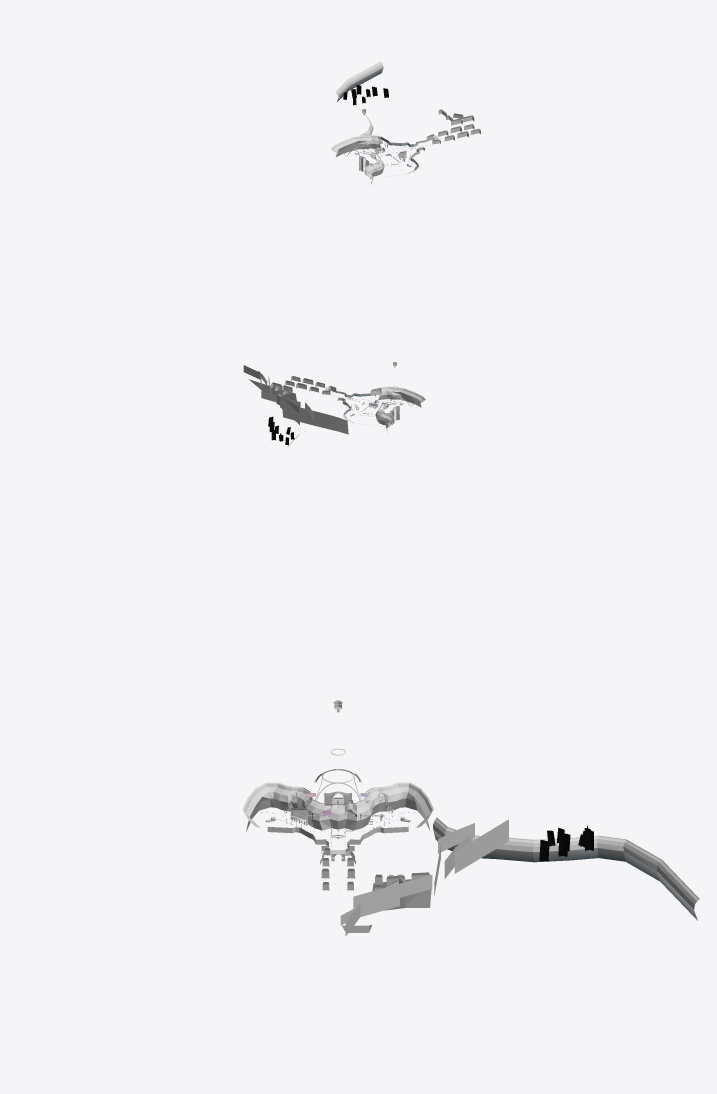
The model's file is arena.glb.
3 views of the same model, one above another, from view 1: azimuth 30°, elevation 25°; view 2: azimuth 150°, elevation 25°; view 3: azimuth 270°, elevation 25° (orthographic). The views are drawn at different scales.
Parts seen in each view (by area): view 1: mesh_46, mesh_43; view 2: mesh_16, mesh_27, mesh_46; view 3: mesh_46, mesh_27, mesh_43, mesh_42, mesh_36.
Part boxes in pixels (x1,y1,x2,y2): mesh_46: (333, 63, 417, 183); mesh_43: (331, 61, 419, 177); mesh_16: (248, 379, 348, 434); mesh_27: (243, 365, 313, 424); mesh_46: (344, 388, 423, 431); mesh_46: (245, 787, 697, 920); mesh_27: (340, 819, 508, 936); mesh_43: (242, 782, 699, 901); mesh_42: (256, 787, 414, 890); mesh_36: (539, 825, 593, 861).
Bounding box in the file's own units: 3326 × 376 × 1852.
